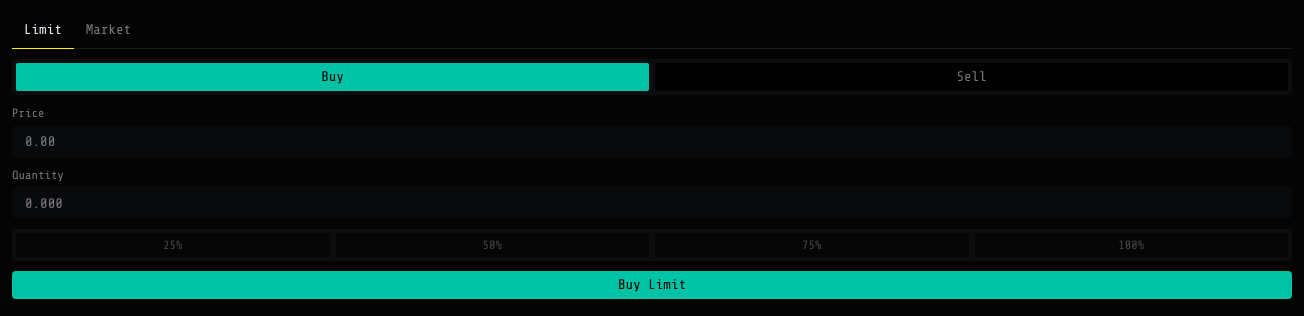
Scenario: OrderForm › switches to sell side and updates submit button text
Click the button "Sell".
click(972, 77)  # box 655,63 -> 1288,91
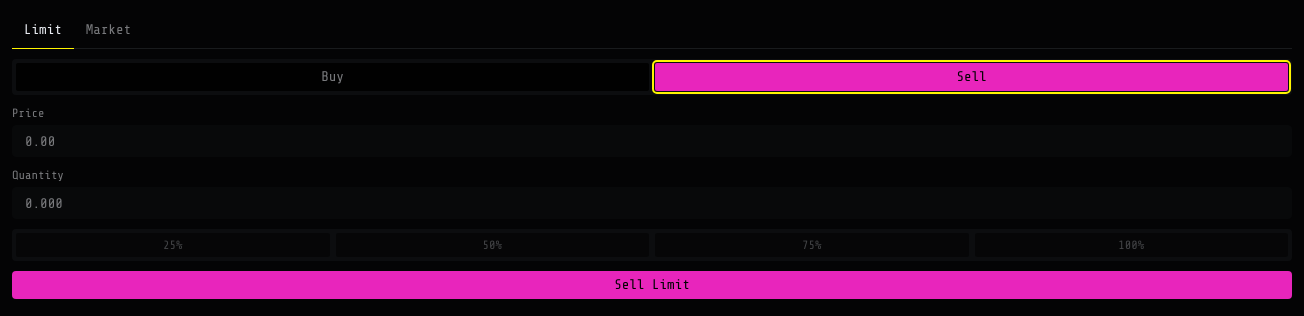
expect the button "Sell Limit" is shown: met, box 12,271 -> 1292,299
